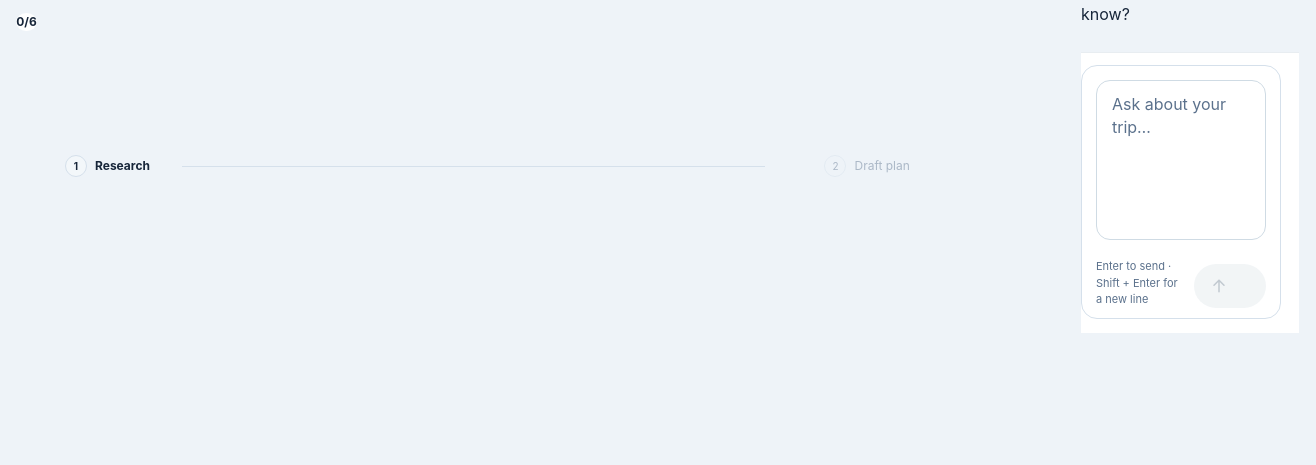
Scenario: interrupted streamed metadata never exposes an actionable invitation
(page scrolled)
In the text box named "Message Travella": (1181, 160) left=1096, top=80, right=1266, bottom=240, type "Coastal walks"
Then press Enter
(page scrolled)
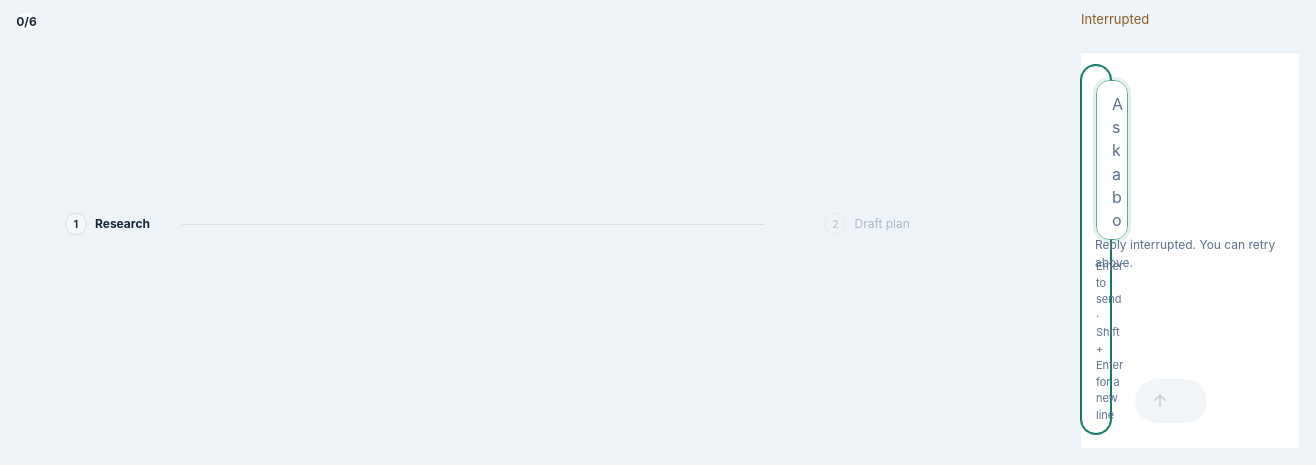
Now the text "Interrupted" is shown, box left=1081, top=11, right=1149, bottom=27
